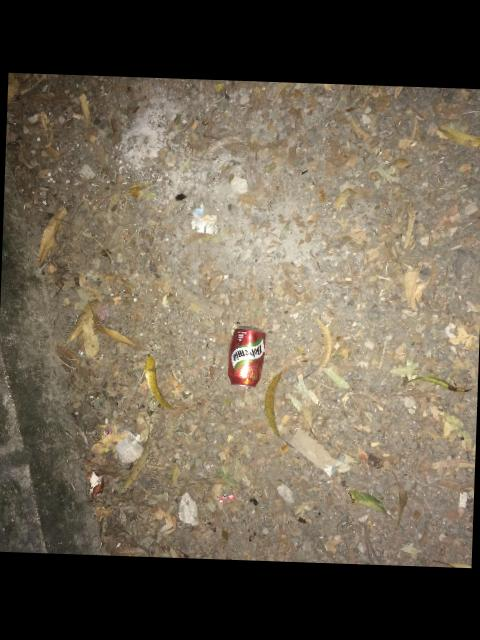metal: (228, 326, 265, 386)
